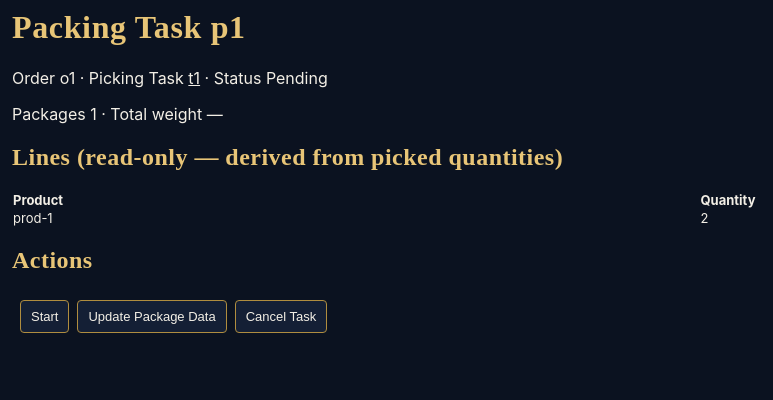
Test case: Packing detail lifecycle actions (Sprint 59B) › shows the backend's rejection message on failure
The width and height of the screenshot is (773, 400).
Click the button "Cancel Task". click: x=281, y=316
box: [235, 300, 327, 332]
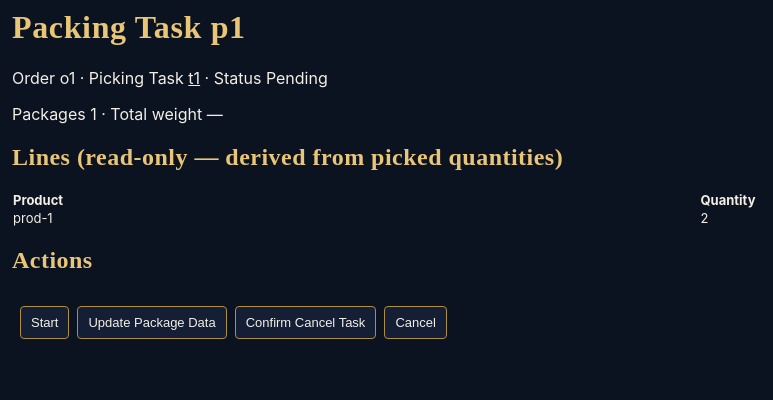
Click the button "Confirm Cancel Task". click: x=306, y=322
box: [235, 306, 376, 338]
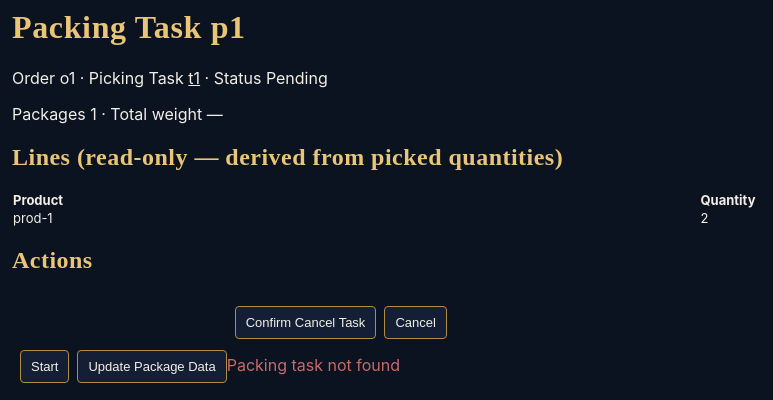
expect the message reads "Packing task not found": met, box [227, 354, 400, 374]
